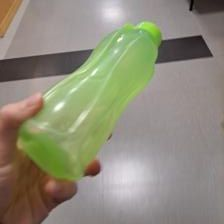bottle: (18, 20, 163, 185)
